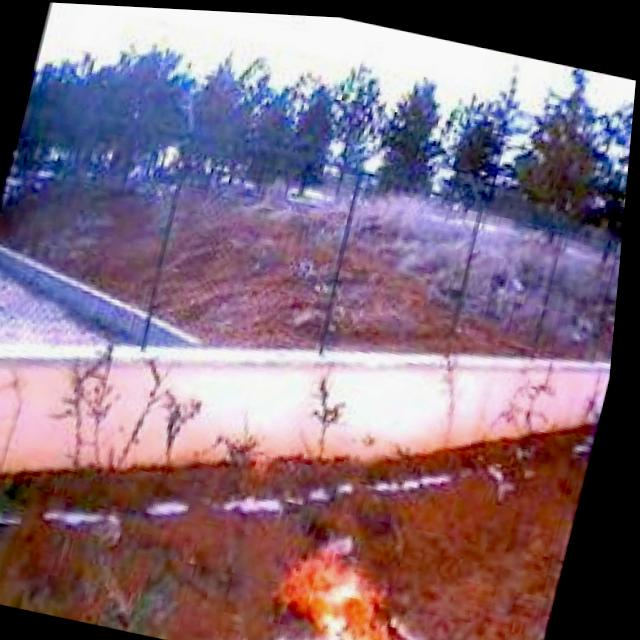helmet: (270, 528, 451, 640)
